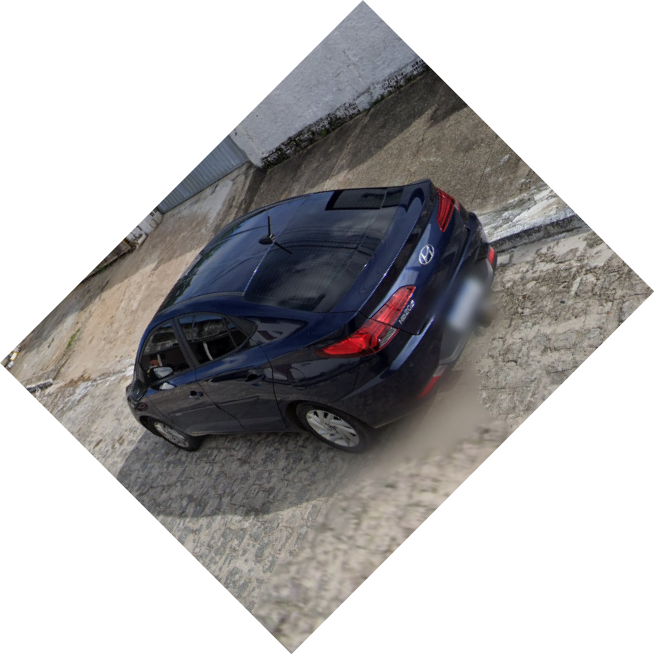car: (123, 176, 499, 454)
